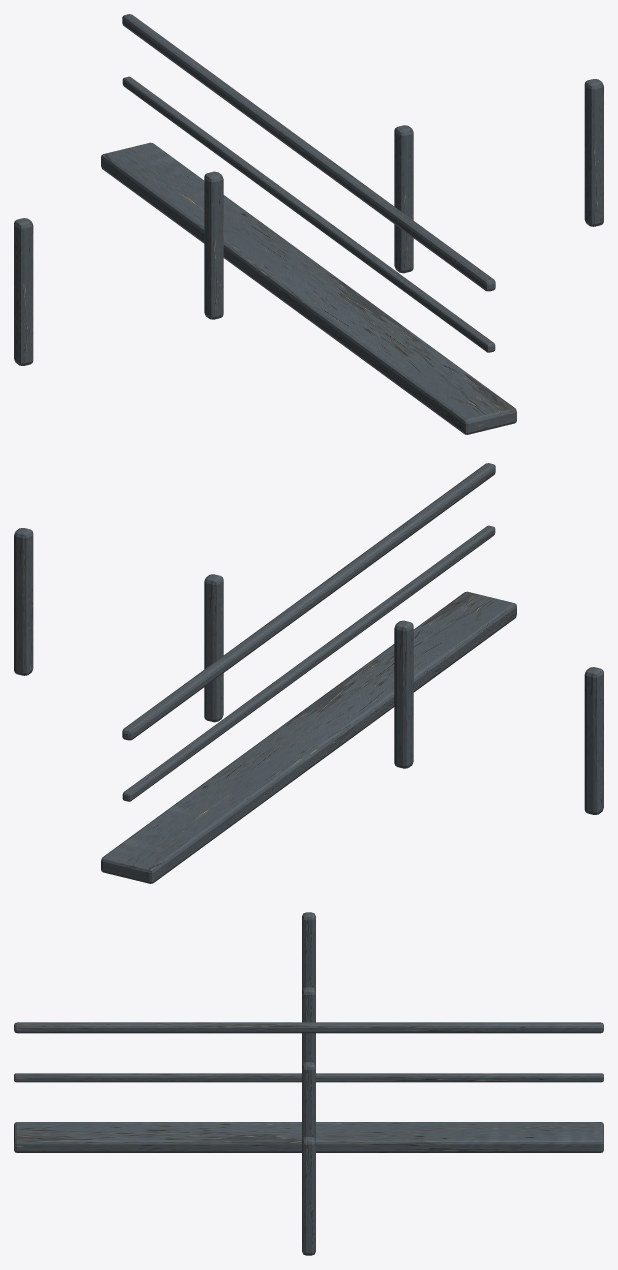
The model's file is railing.glb.
The picture shows the model from 3 angles, top to bottom: view 1: azimuth 30°, elevation 25°; view 2: azimuth 150°, elevation 25°; view 3: azimuth 270°, elevation 25°; orthographic projection. The views are drawn at different scales.
Parts seen in each view (by area): view 1: RailingBase, RailingTop, RailingMid, RailingPost1, RailingPost3, RailingPost0, RailingPost2; view 2: RailingBase, RailingTop, RailingMid, RailingPost1, RailingPost3, RailingPost0, RailingPost2; view 3: RailingBase, RailingTop, RailingMid, RailingPost3, RailingPost0, RailingPost2, RailingPost1.
Part boxes in pixels (box(x1,y1,x2,y2)): RailingBase: box(101, 142, 516, 434); RailingTop: box(122, 14, 495, 291); RailingMid: box(122, 76, 495, 352); RailingPost1: box(204, 171, 223, 319); RailingPost3: box(584, 79, 603, 226); RailingPost0: box(14, 218, 33, 365); RailingPost2: box(394, 125, 413, 273); RailingBase: box(101, 591, 516, 883); RailingTop: box(122, 463, 495, 740); RailingMid: box(122, 525, 495, 801); RailingPost1: box(394, 620, 413, 768); RailingPost3: box(14, 528, 33, 675); RailingPost0: box(584, 667, 603, 814); RailingPost2: box(204, 574, 223, 722); RailingBase: box(14, 1122, 603, 1152); RailingTop: box(14, 1022, 603, 1033); RailingMid: box(14, 1073, 603, 1082); RailingPost3: box(302, 1137, 315, 1255); RailingPost0: box(302, 912, 315, 990); RailingPost2: box(302, 1062, 315, 1139); RailingPost1: box(302, 987, 315, 1065).
Bounding box in the file's own units: 5.54 × 1.35 × 6.
1 material, 1 textured.
